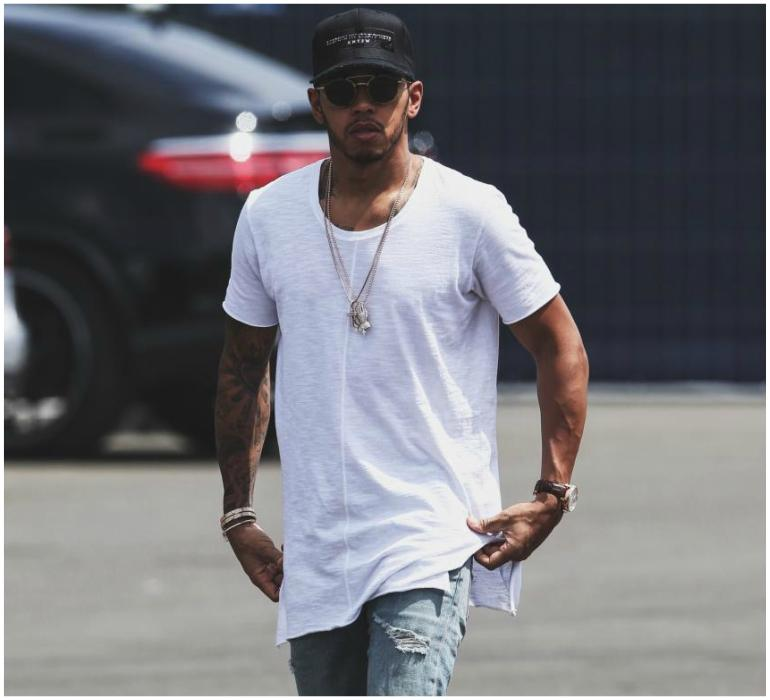jeans: (299, 589, 470, 693)
sunglasses: (319, 74, 401, 107)
